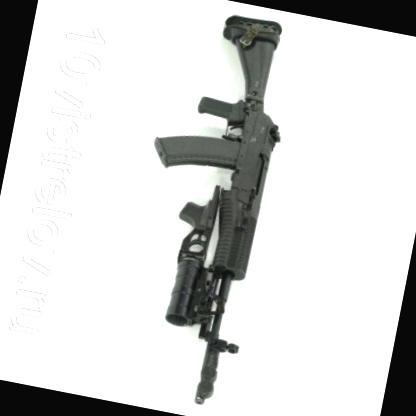rifle: (93, 0, 324, 416)
